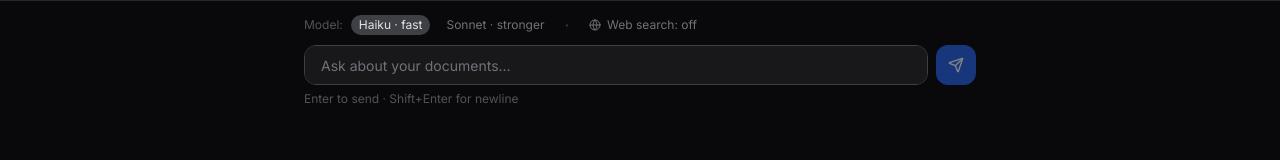
Test: MessageInput › resets web search toggle to off after send
Enable web search
Click the button with test id "web-search-toggle" at (643,25), box [581, 15, 705, 35]
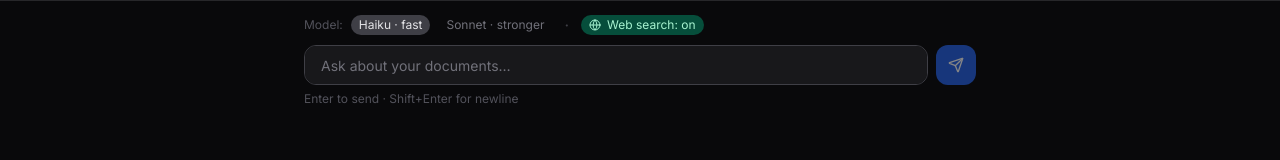
Now the button with test id "web-search-toggle" shows "on", box [581, 15, 704, 35]
Send message
Type "test" into the text box at (616,65), box [304, 45, 928, 85]
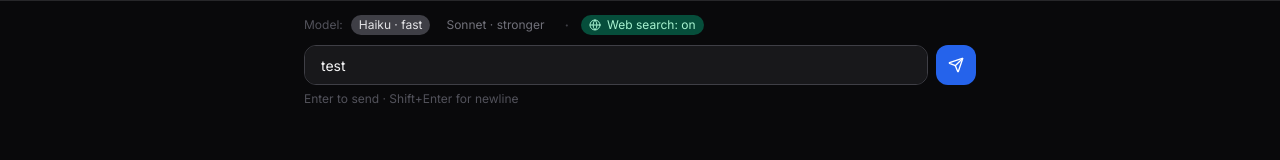
Click the button named "send" at (956,65), box [936, 45, 976, 85]
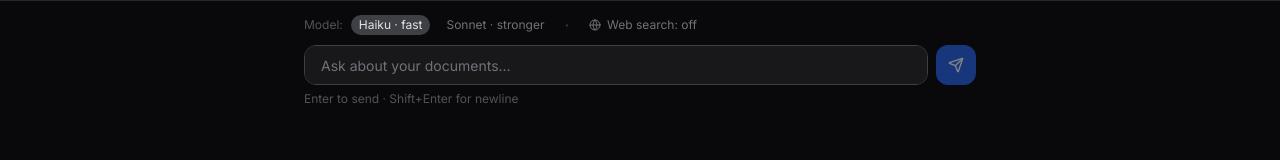
Now the button with test id "web-search-toggle" shows "off", box [581, 15, 705, 35]
